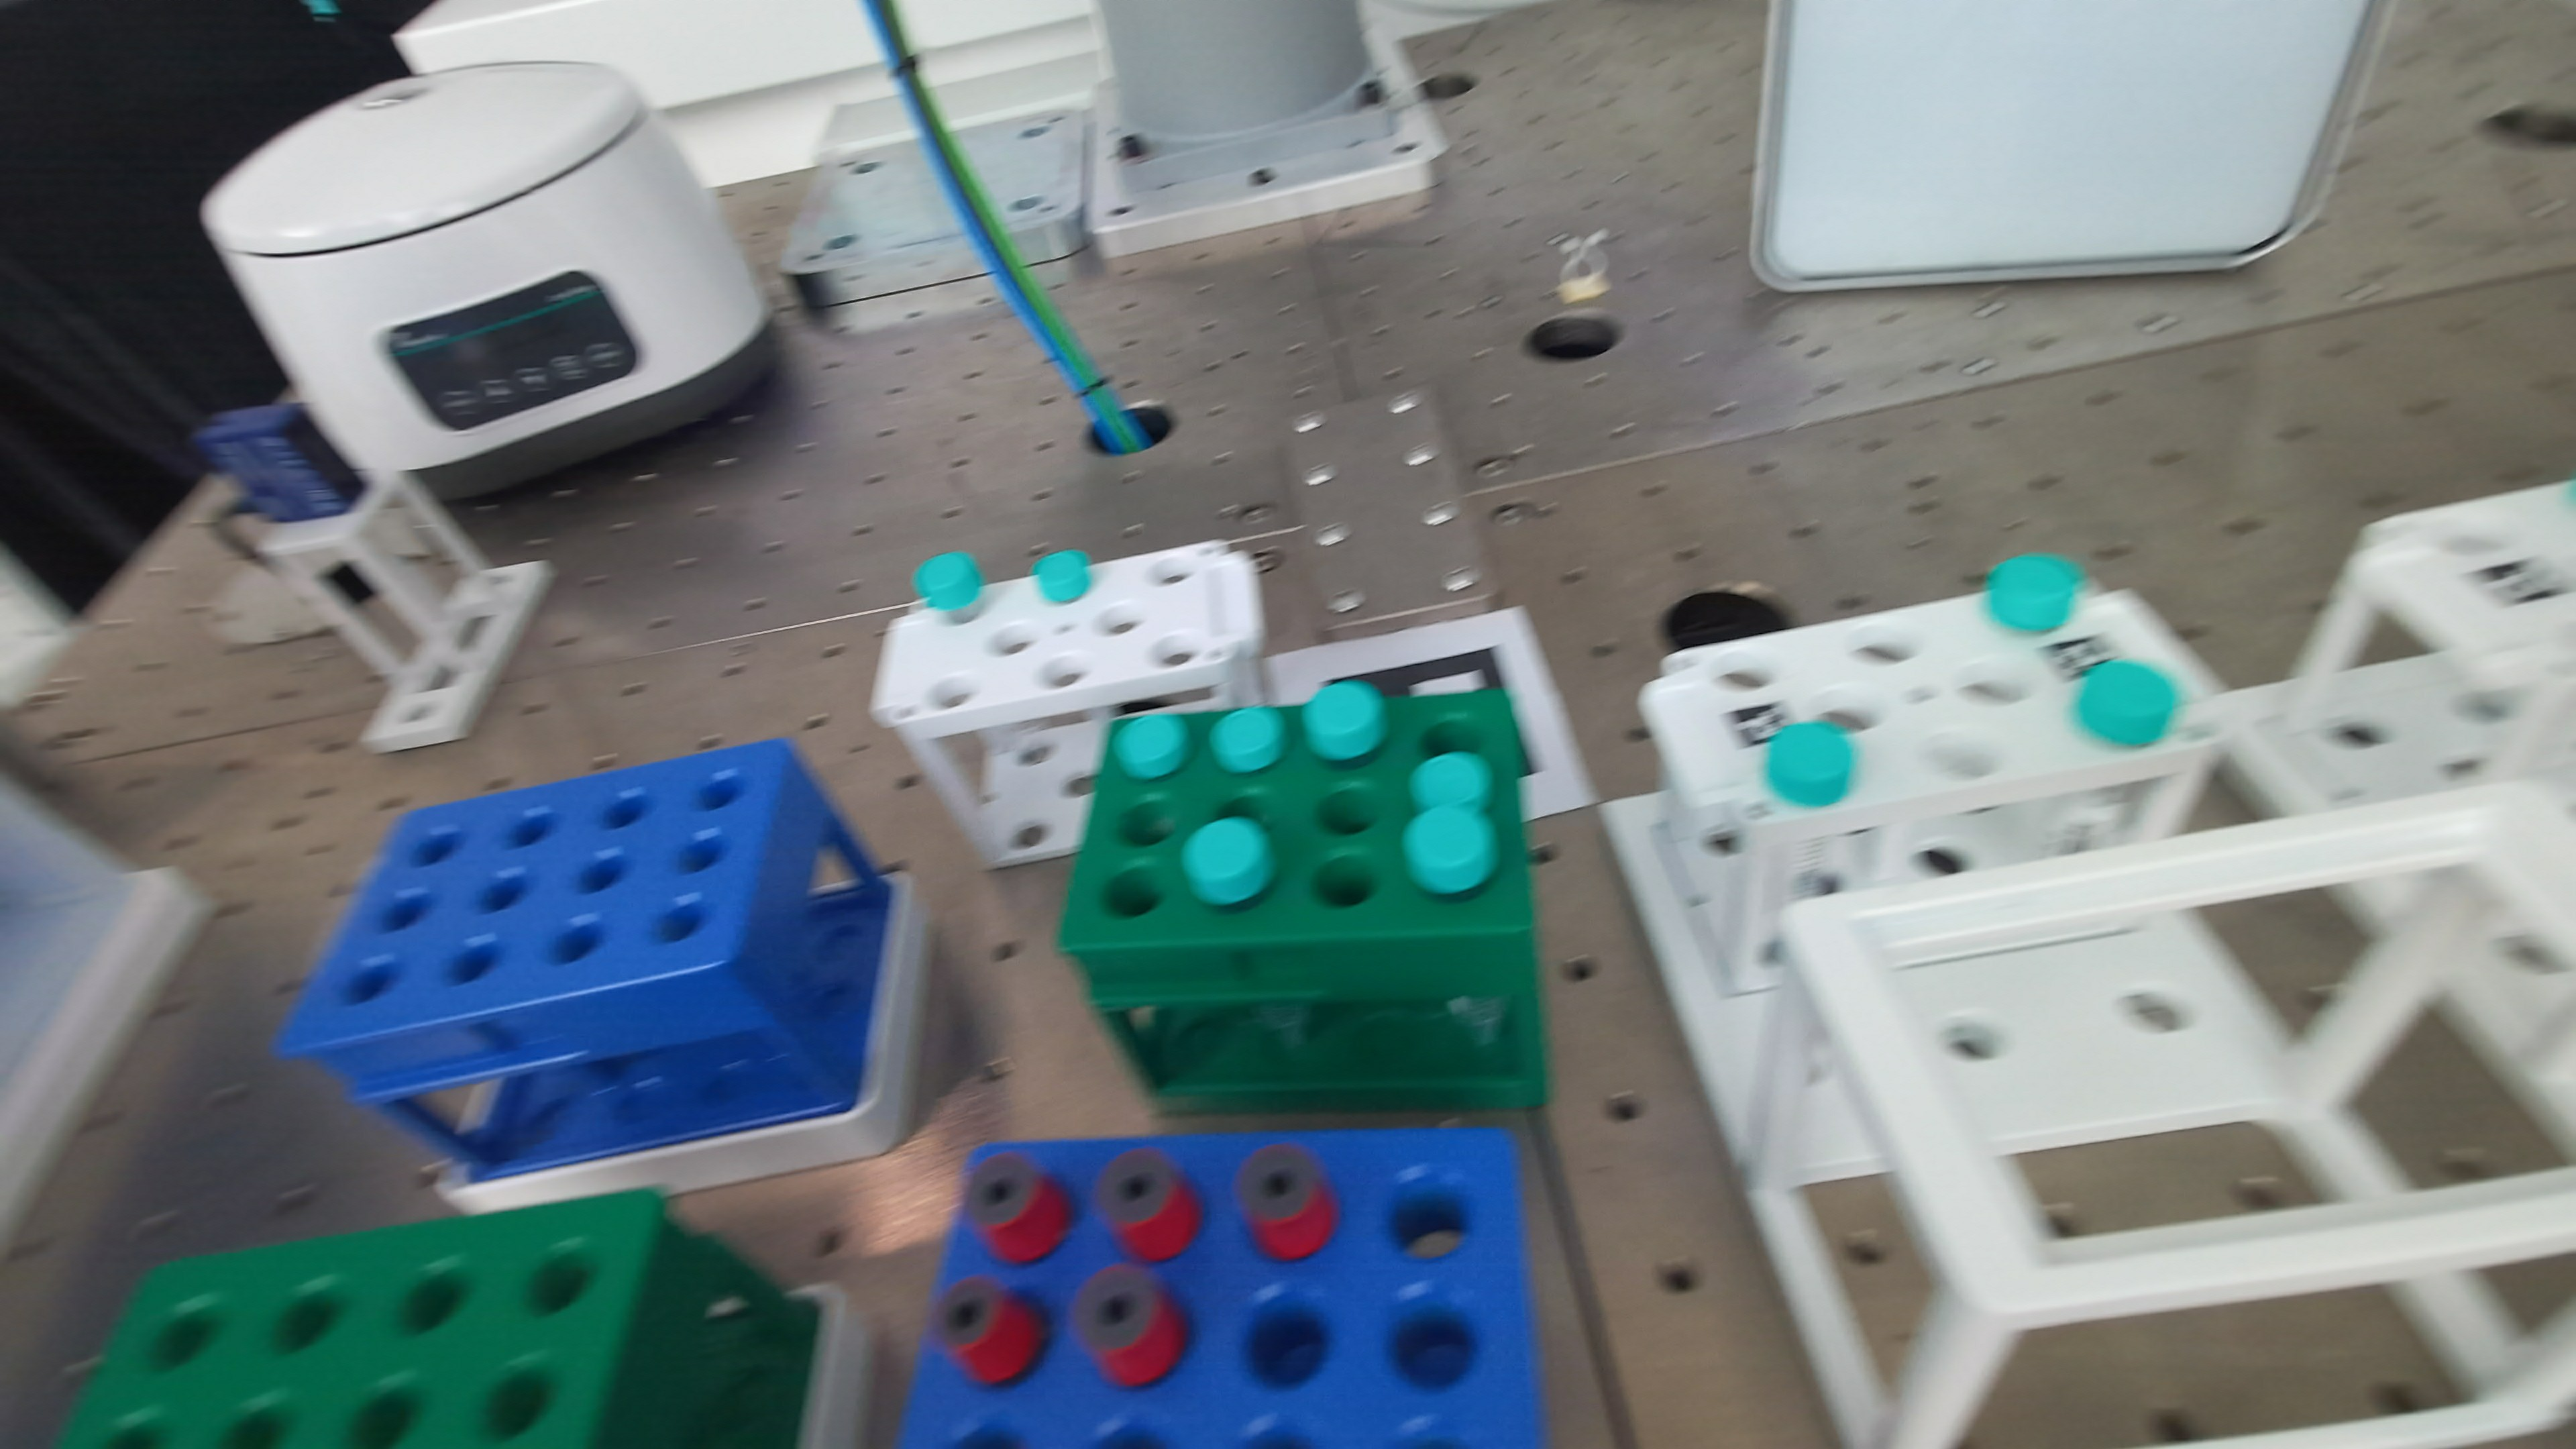10ML_centrifuge_tube: (2075, 660, 2181, 747), (1403, 805, 1499, 897), (1182, 817, 1276, 906), (1766, 720, 1856, 807), (1987, 554, 2084, 632), (1302, 679, 1387, 763), (913, 552, 984, 614)
10ML_sorting_tube_rack: (276, 740, 890, 1180), (899, 1127, 1545, 1447)
5ML_centrifuge_tube: (1113, 713, 1191, 780), (1410, 752, 1493, 812), (1210, 706, 1284, 773), (1033, 550, 1093, 603)
5ML_sorting_tube_rack: (1060, 690, 1548, 1111), (60, 1191, 823, 1449)
blood_tube: (1072, 1263, 1185, 1385), (1095, 1148, 1201, 1261), (964, 1152, 1070, 1263), (1237, 1143, 1338, 1260), (934, 1277, 1044, 1384)
dispensing_tube_rack: (1605, 485, 2576, 1444), (872, 545, 1263, 867)
refrigerator_close: (203, 0, 2381, 495)
sorting_tube_rack_base: (439, 874, 929, 1214), (789, 1284, 872, 1449)
tube_rack_storage_cabinet: (0, 780, 211, 1253)
